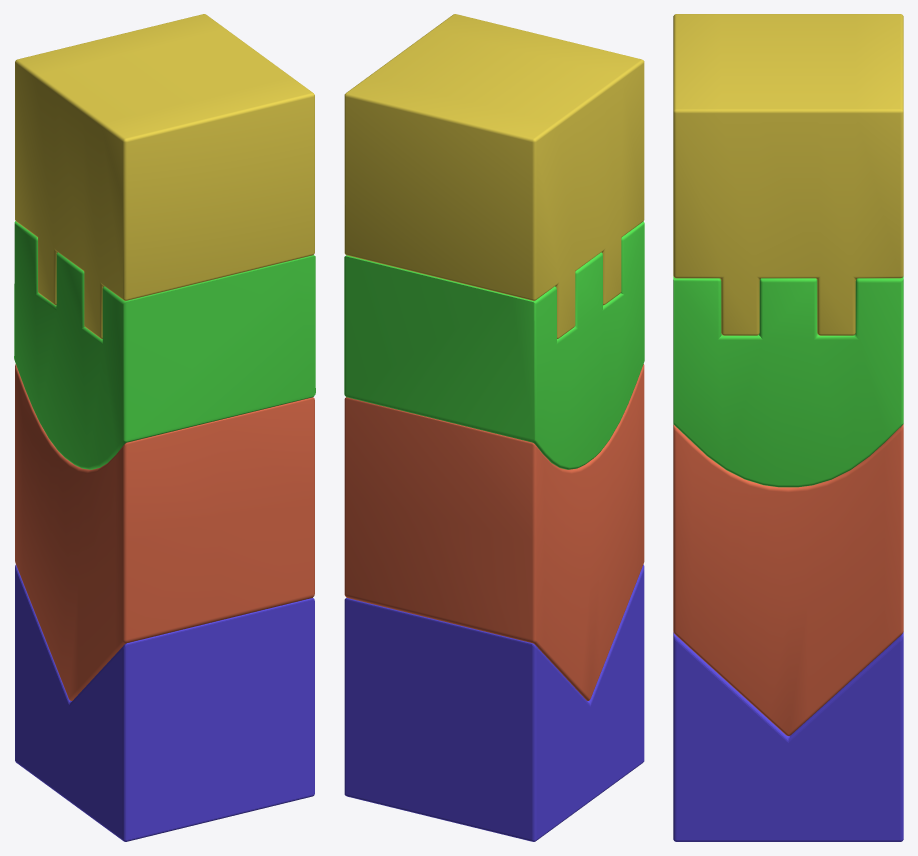
Rendered from ShapesAndMoulds.fbx.
3 renders of one model, left to right at view 1: azimuth 30°, elevation 25°; view 2: azimuth 150°, elevation 25°; view 3: azimuth 270°, elevation 25°, orthographic. The views are drawn at different scales.
Visible parts, largest first — view 1: Cube.003, Cube.001, Cube, Cube.002; view 2: Cube.003, Cube.001, Cube, Cube.002; view 3: Cube.003, Cube.001, Cube.002, Cube.
Part boxes in pixels (box(x1,y1,x2,y2)): Cube.003: box(15, 14, 314, 338); Cube.001: box(15, 364, 314, 700); Cube: box(15, 564, 314, 841); Cube.002: box(14, 221, 315, 469); Cube.003: box(344, 14, 644, 338); Cube.001: box(344, 364, 644, 700); Cube: box(344, 564, 644, 841); Cube.002: box(344, 221, 644, 469); Cube.003: box(673, 14, 903, 335); Cube.001: box(673, 424, 903, 735); Cube.002: box(673, 276, 903, 487); Cube: box(673, 632, 903, 841).
Bounding box in the file's own units: 200 × 701 × 200.
